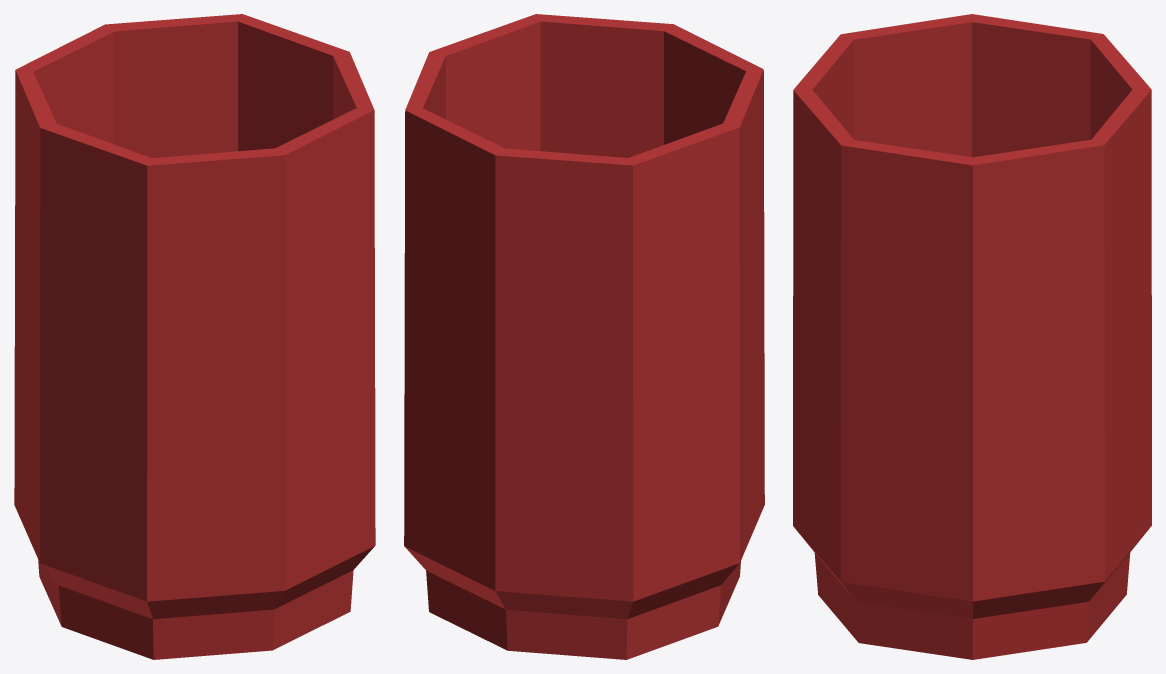
File: Kitchen_Glass2.fbx
3 renders of one model, left to right at view 1: azimuth 30°, elevation 25°; view 2: azimuth 150°, elevation 25°; view 3: azimuth 270°, elevation 25°, orthographic.
Parts seen in each view (by area): view 1: Kitchen_Glass2; view 2: Kitchen_Glass2; view 3: Kitchen_Glass2.
Boxes of the visible parts, x1,y1,x2,y2 form: Kitchen_Glass2: (14,14,375,659); Kitchen_Glass2: (404,14,764,659); Kitchen_Glass2: (793,14,1151,659).
Bounding box in the file's own units: 11.08 × 17.21 × 11.08.
